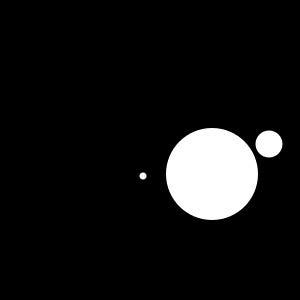rectangle: (166, 128, 258, 220), (255, 130, 282, 158), (140, 172, 146, 180)
